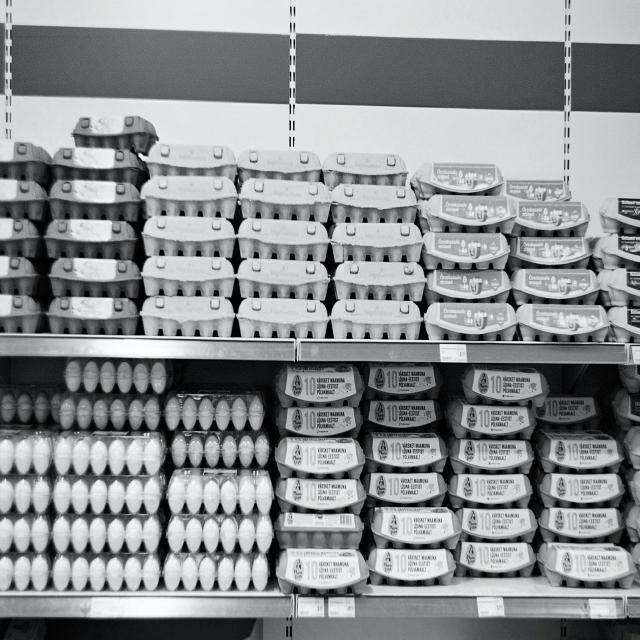Imprecise: (48, 111, 150, 342), (501, 172, 610, 344), (536, 392, 624, 588), (0, 380, 64, 589)
